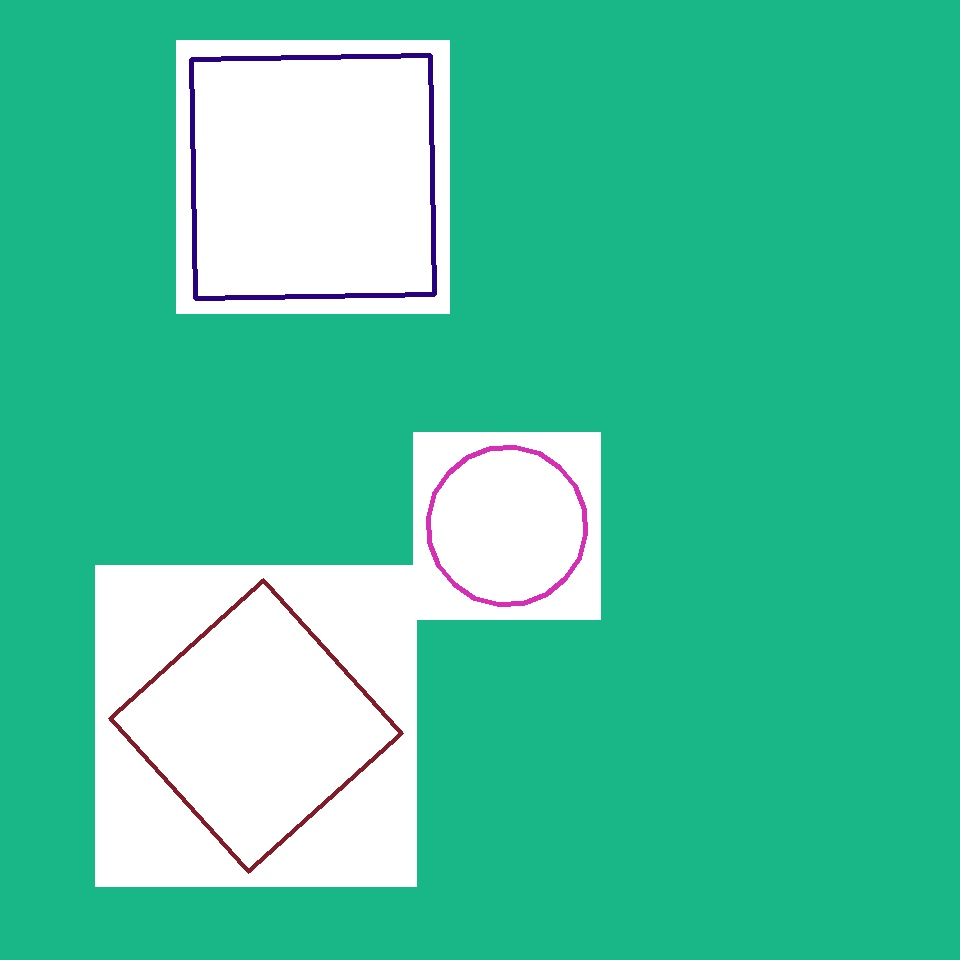circle: (563, 104, 751, 298)
square: (110, 580, 402, 871), (192, 56, 434, 298), (384, 686, 594, 896), (470, 130, 655, 316)
triangle: (428, 448, 586, 605)
